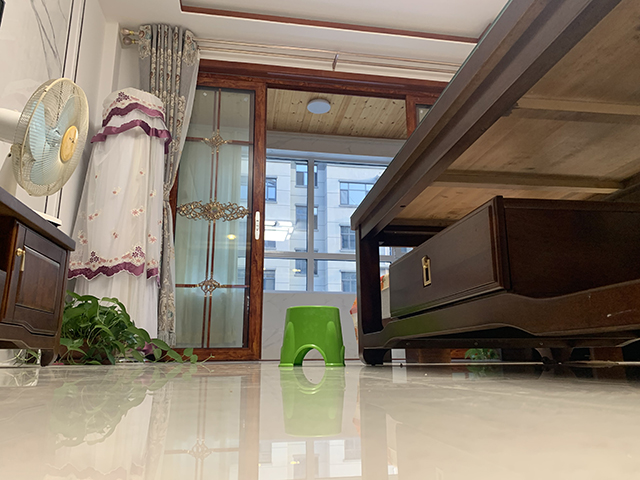cabinet: (1, 186, 76, 368)
curtain: (137, 22, 202, 349)
stool: (277, 305, 348, 368)
table: (348, 1, 640, 364)
